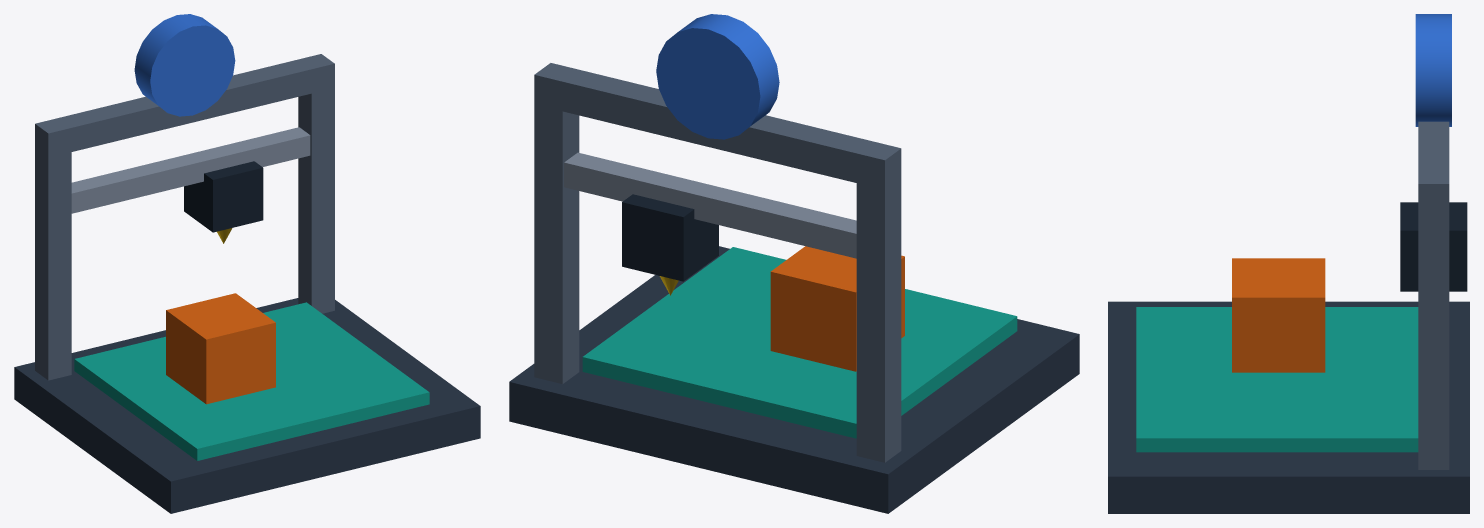
Rendered from printer.glb.
3 renders of one model, left to right at view 1: azimuth 30°, elevation 25°; view 2: azimuth 150°, elevation 25°; view 3: azimuth 270°, elevation 25°, orthographic. The views are drawn at different scales.
Size of the model in its own units: 0.8 by 0.87 by 0.7.
